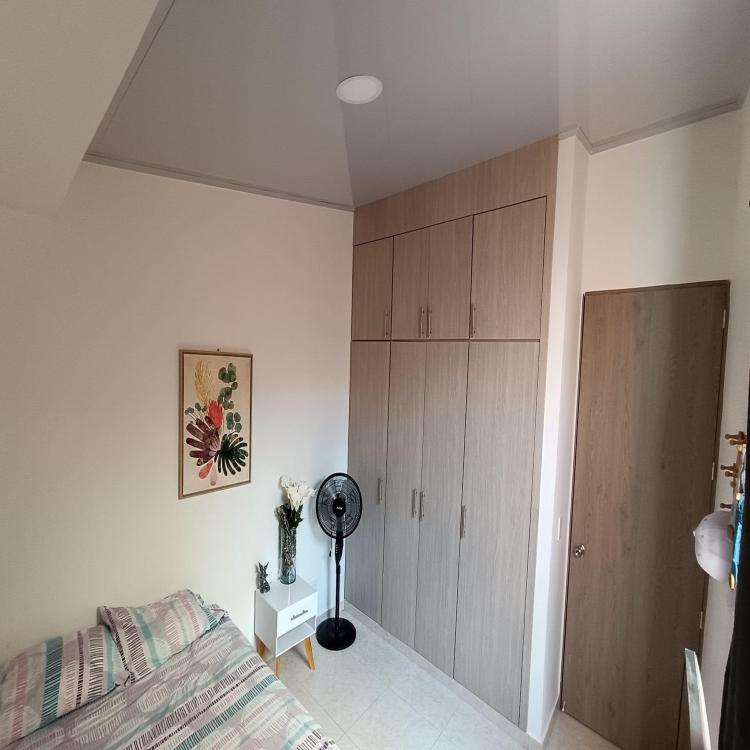ClosedDoor: (562, 279, 735, 750)
